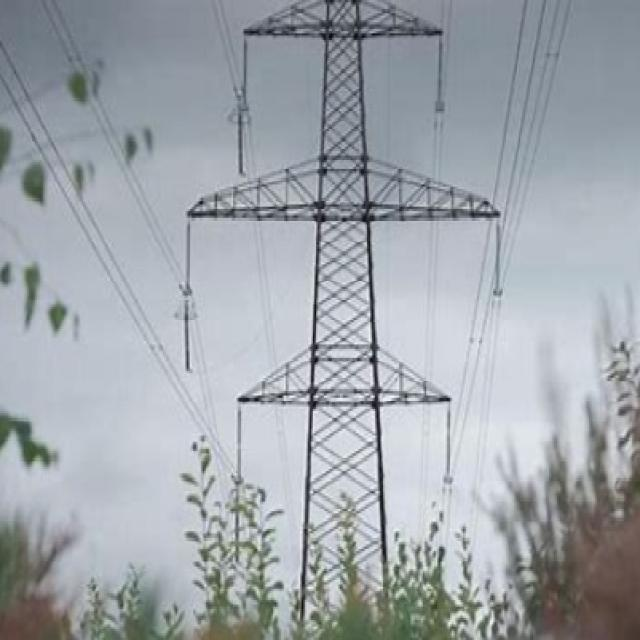utility poles: (218, 293, 462, 640)
